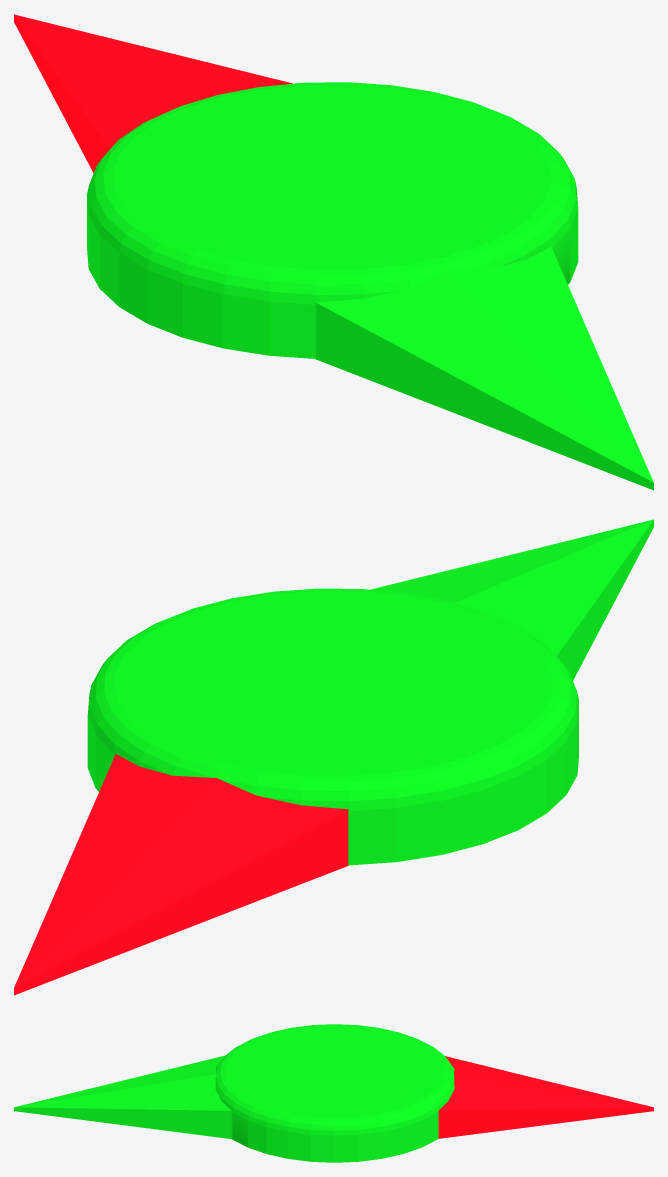
File: compass.fbx
3 views of the same model, one above another, from view 1: azimuth 30°, elevation 25°; view 2: azimuth 150°, elevation 25°; view 3: azimuth 270°, elevation 25° (orthographic). The views are drawn at different scales.
Visible parts, largest first — view 1: Cube; view 2: Cube; view 3: Cube.
Boxes of the visible parts, x1,y1,x2,y2 form: Cube: [14, 14, 653, 490]; Cube: [14, 519, 653, 995]; Cube: [14, 1024, 653, 1162].
Size of the model in its own units: 303 by 53.29 by 788.
